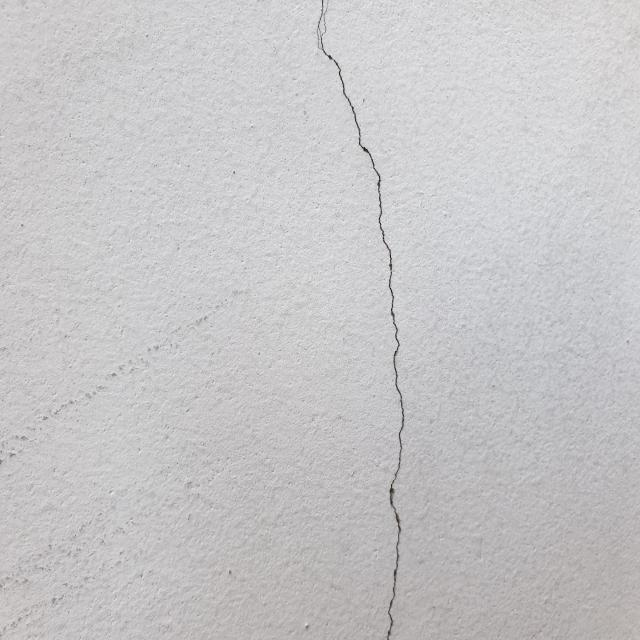SurfaceCrack: (271, 2, 458, 640)
